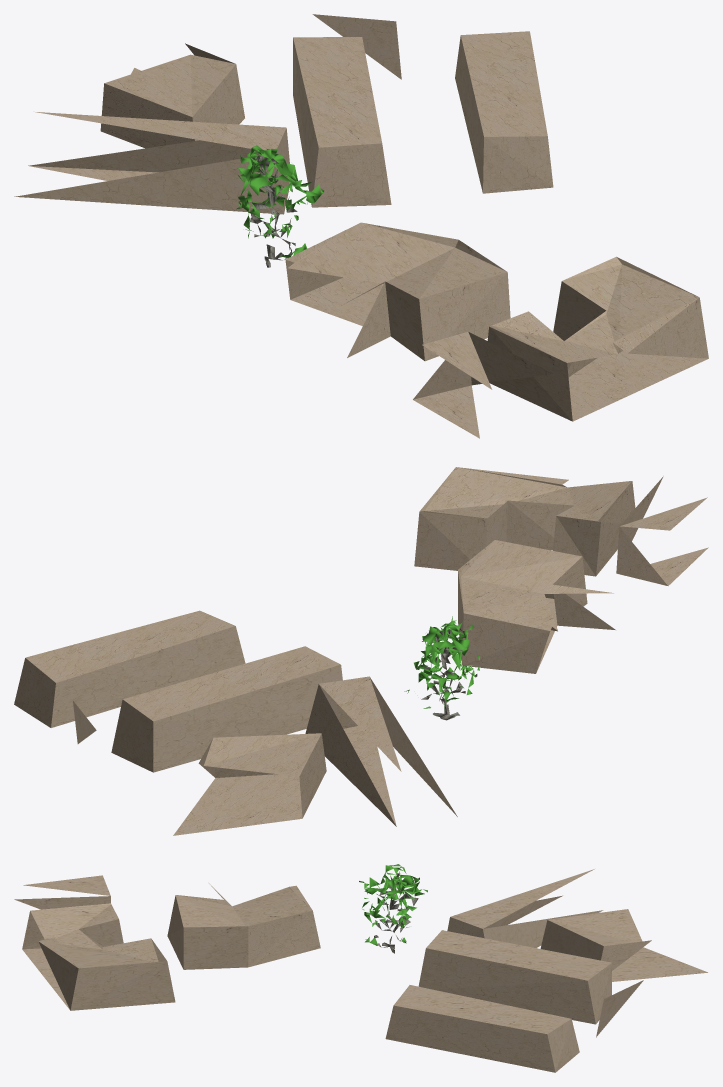
The model's file is tile_2_0.gltf.
3 views of the same model, one above another, from view 1: azimuth 30°, elevation 25°; view 2: azimuth 150°, elevation 25°; view 3: azimuth 270°, elevation 25° (orthographic). The views are drawn at different scales.
Visible parts, largest first — view 1: Plane.011@tile_2_0, Bodhi Tree_Bodhi_front_2_Mat_0.044@tile_2_0; view 2: Plane.011@tile_2_0, Bodhi Tree_Bodhi_front_2_Mat_0.044@tile_2_0; view 3: Plane.011@tile_2_0, Bodhi Tree_Bodhi_front_2_Mat_0.044@tile_2_0.
Part boxes in pixels (left/top/right/bottom): Plane.011@tile_2_0: left=14, top=14, right=708, bottom=438; Bodhi Tree_Bodhi_front_2_Mat_0.044@tile_2_0: left=234, top=145, right=323, bottom=267; Plane.011@tile_2_0: left=14, top=467, right=708, bottom=835; Bodhi Tree_Bodhi_front_2_Mat_0.044@tile_2_0: left=404, top=616, right=479, bottom=720; Plane.011@tile_2_0: left=14, top=869, right=707, bottom=1072; Bodhi Tree_Bodhi_front_2_Mat_0.044@tile_2_0: left=359, top=864, right=427, bottom=953.
Size of the model in its own units: 46.77 by 10.07 by 77.48.
3 materials, 2 textured.
